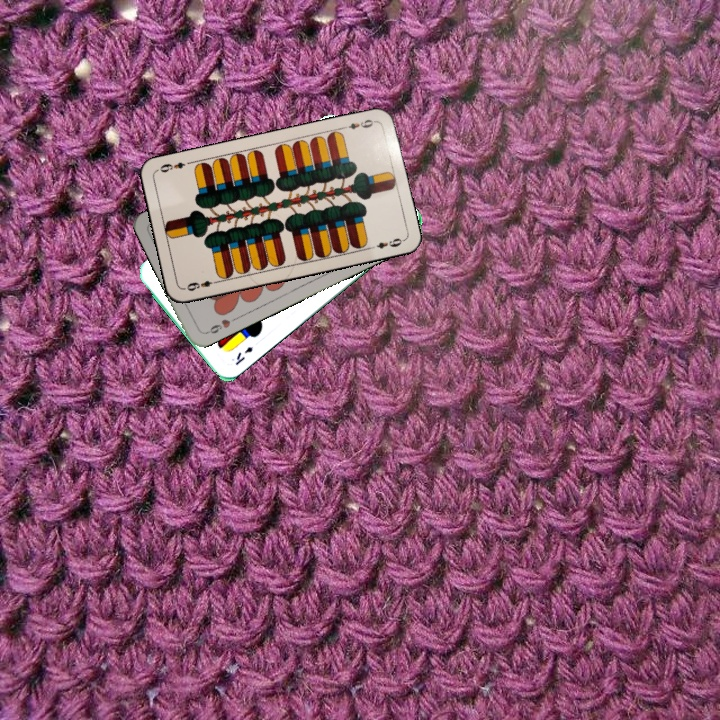E9: (183, 276, 221, 294), (338, 115, 378, 132)
EK: (231, 342, 255, 368)
H9: (201, 313, 239, 337)
